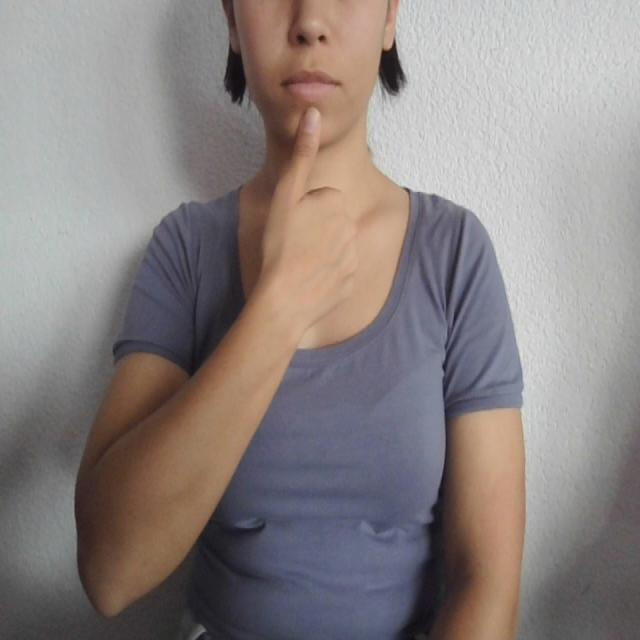Baba: (272, 57, 350, 175)
